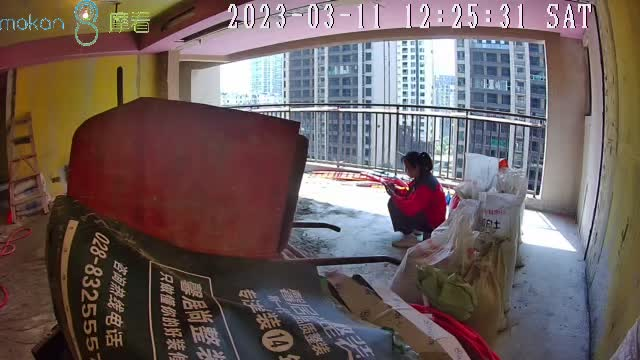people: (383, 151, 446, 247)
window: (214, 36, 546, 201)
